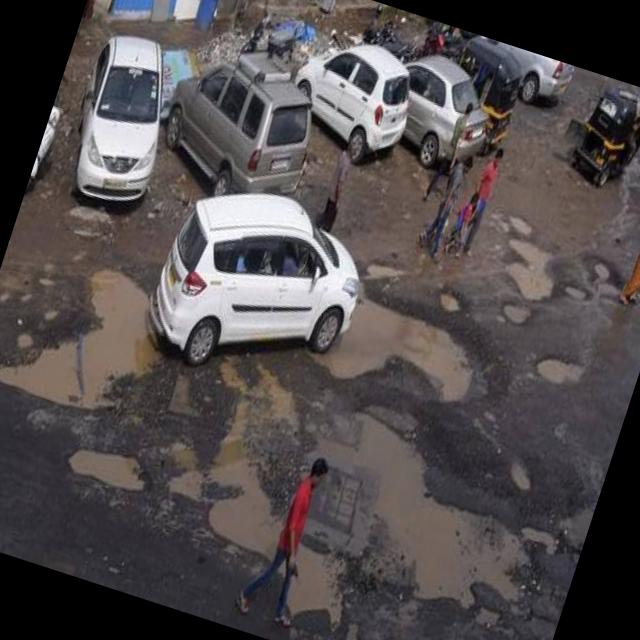Potholes: (267, 376, 588, 640), (147, 346, 404, 640), (294, 232, 520, 440), (0, 231, 189, 439), (474, 206, 574, 340), (56, 415, 166, 512), (557, 255, 636, 332), (546, 476, 602, 564), (525, 340, 598, 406), (430, 274, 476, 326)
